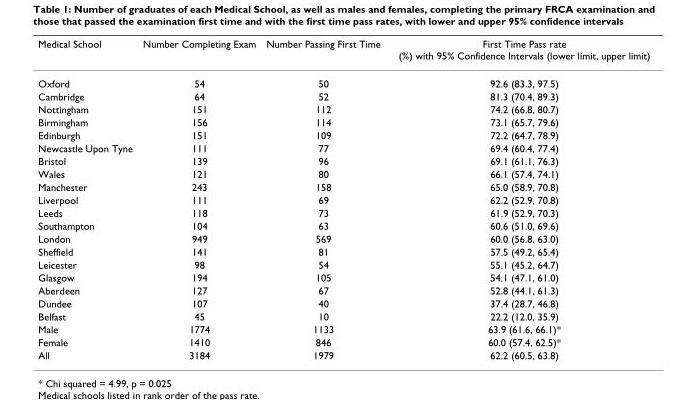table: (37, 37, 649, 360)
table column: (388, 37, 649, 360), (260, 37, 388, 360), (137, 37, 260, 360), (37, 37, 137, 360)
table column header: (37, 37, 649, 68)
table row: (37, 37, 649, 68), (37, 68, 649, 89), (37, 89, 649, 102), (37, 102, 649, 115), (37, 115, 649, 128), (37, 128, 649, 141), (37, 141, 649, 154), (37, 154, 649, 167), (37, 179, 649, 192), (37, 192, 649, 205), (37, 205, 649, 218), (37, 218, 649, 231), (37, 231, 649, 244), (37, 244, 649, 257), (37, 257, 649, 270), (37, 270, 649, 283), (37, 283, 649, 296), (37, 296, 649, 309), (37, 309, 649, 322), (37, 322, 649, 335), (37, 335, 649, 348), (37, 167, 649, 179), (37, 348, 649, 360)
